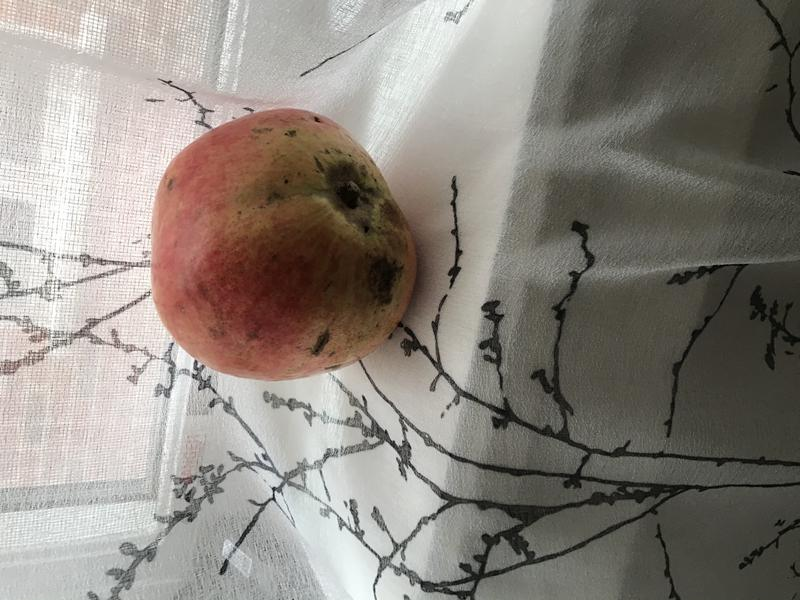pomegranate: (141, 102, 433, 383)
